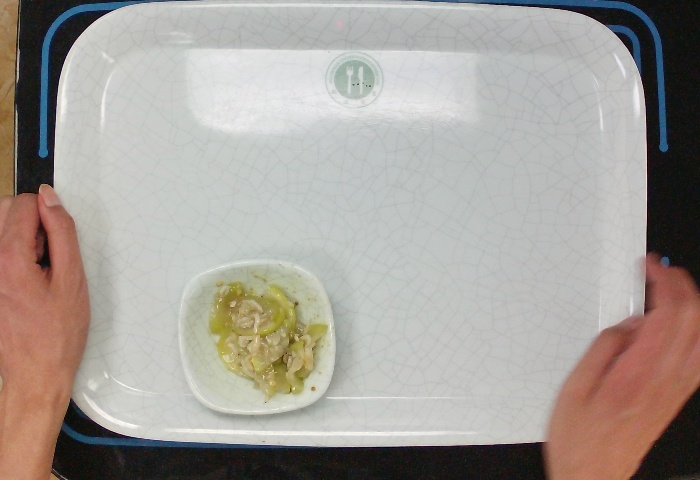JYsf-Si_Fang_Die: (175, 257, 337, 417)
